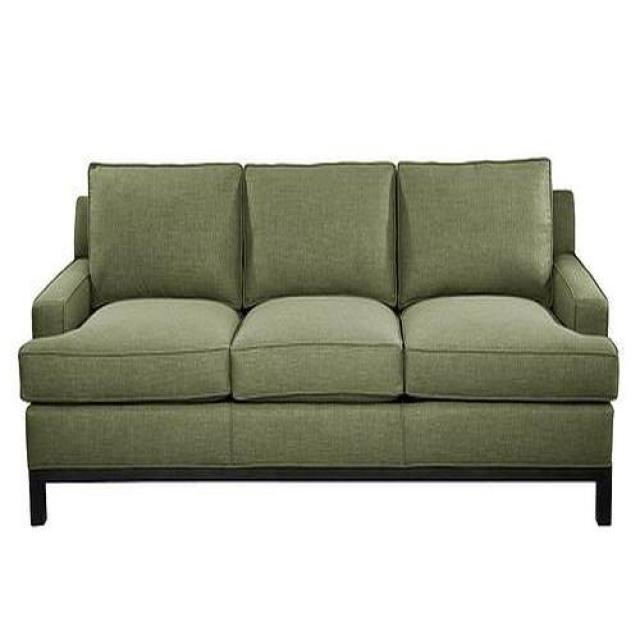sofa: (17, 157, 621, 529)
